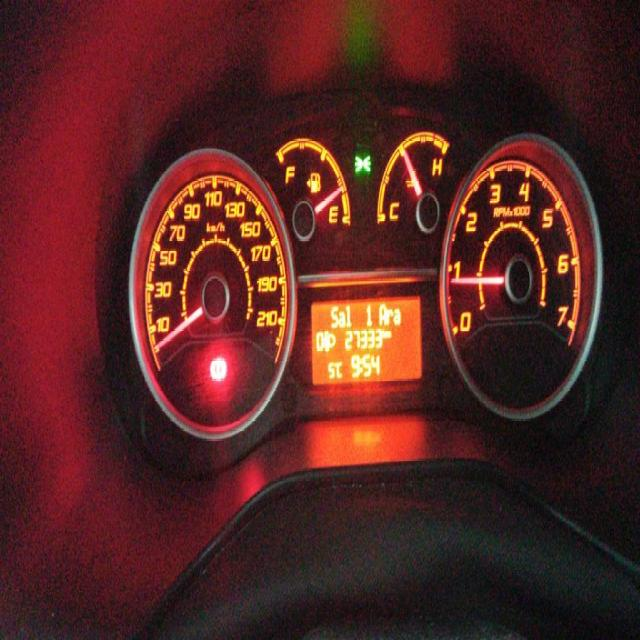odometer: (309, 294, 425, 384)
